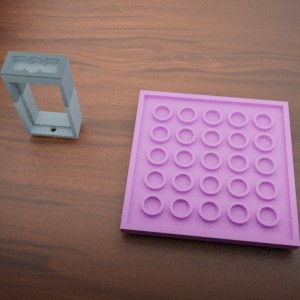lego: (120, 90, 300, 249), (0, 50, 82, 138)
